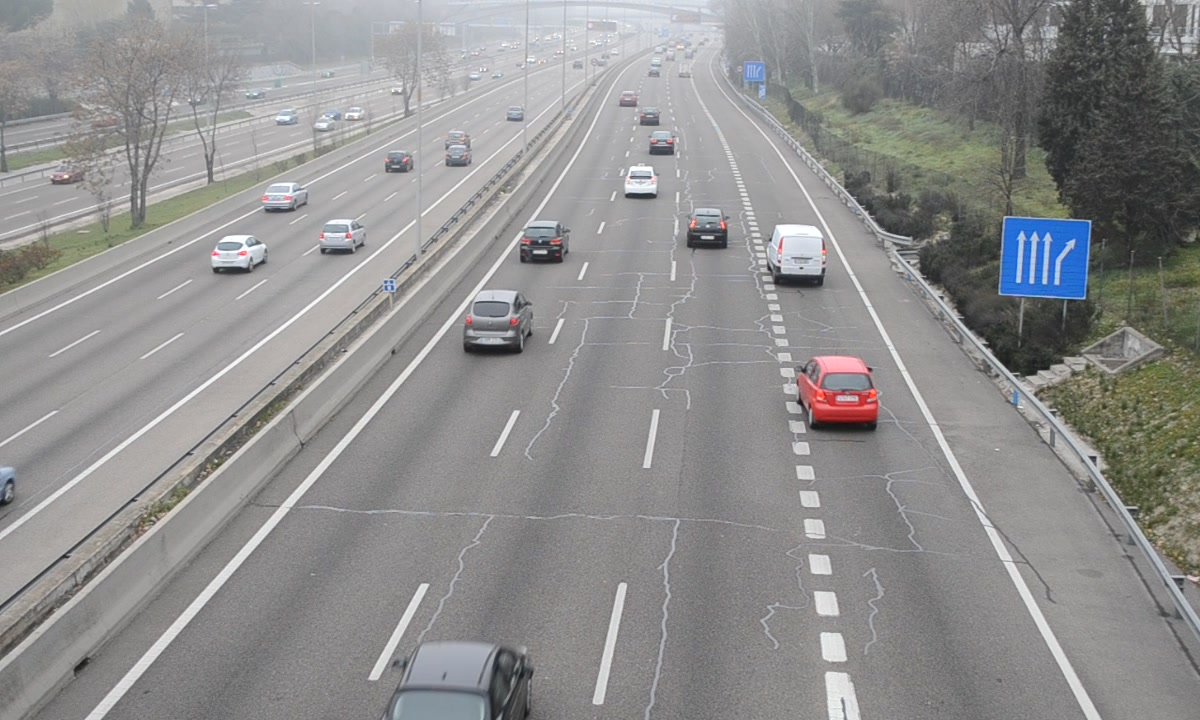car: (801, 355, 880, 426), (466, 291, 530, 352), (519, 221, 570, 261), (687, 207, 730, 250), (622, 162, 660, 199), (650, 127, 675, 155)
van: (765, 224, 828, 284)
